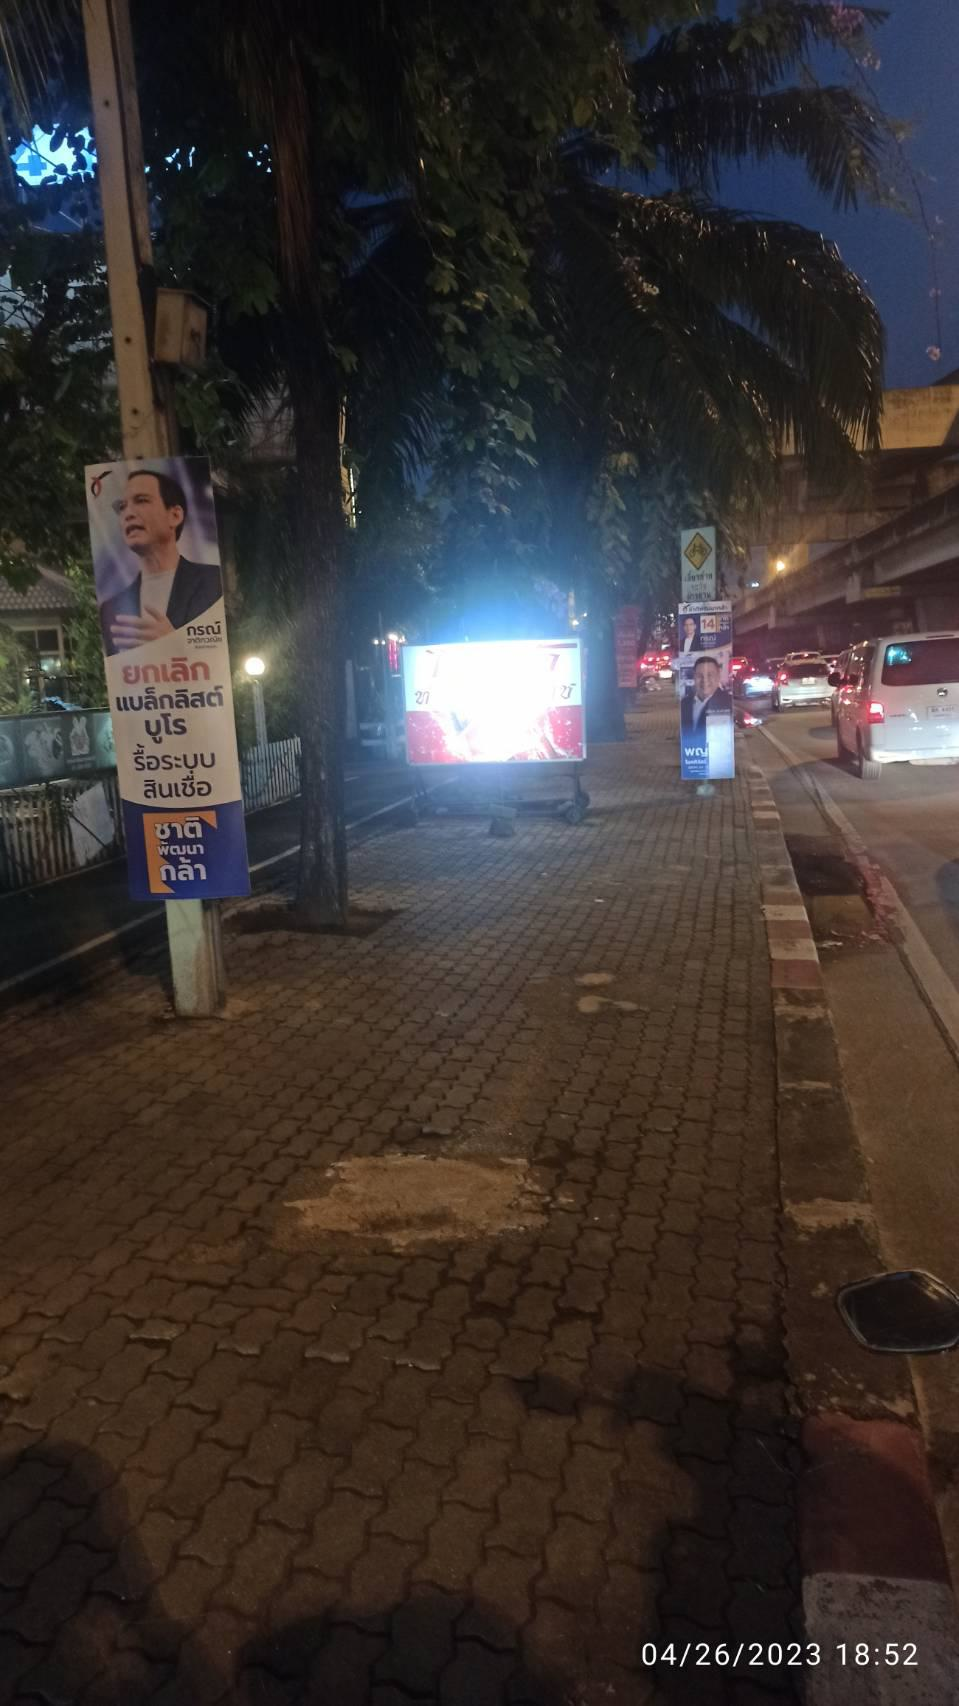Banner: (81, 463, 256, 905)
